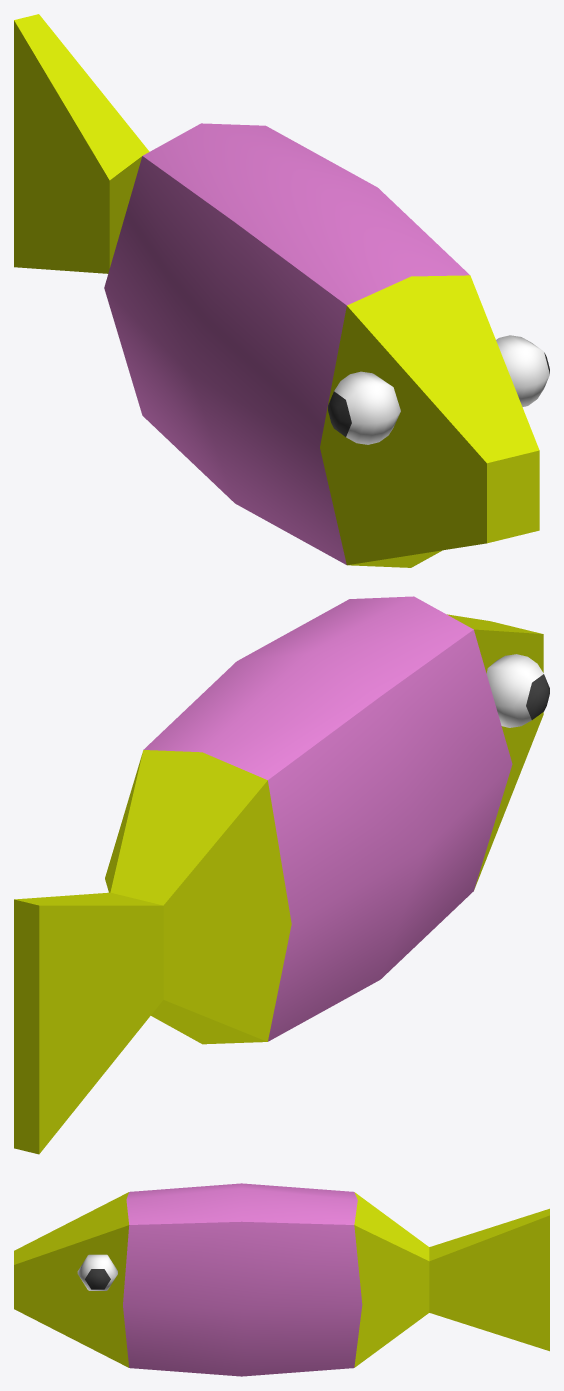
File: fih.fbx
The picture shows the model from 3 angles, top to bottom: view 1: azimuth 30°, elevation 25°; view 2: azimuth 150°, elevation 25°; view 3: azimuth 270°, elevation 25°; orthographic projection. The views are drawn at different scales.
Parts seen in each view (by area): view 1: Cube.001, Cube, Sphere.003, Sphere, Sphere.002; view 2: Cube.001, Cube, Sphere.003, Sphere.002; view 3: Cube.001, Cube, Sphere, Sphere.001.
Boxes of the visible parts, <box> form: Cube.001: <box>104,123,469,564</box>; Cube: <box>14,14,539,567</box>; Sphere.003: <box>334,371,400,444</box>; Sphere: <box>496,335,549,406</box>; Sphere.002: <box>328,391,351,436</box>; Cube.001: <box>143,596,512,1041</box>; Cube: <box>14,614,543,1154</box>; Sphere.003: <box>486,654,543,727</box>; Sphere.002: <box>526,674,549,719</box>; Cube.001: <box>123,1183,362,1376</box>; Cube: <box>14,1192,549,1367</box>; Sphere: <box>77,1254,117,1290</box>; Sphere.001: <box>85,1269,110,1289</box>.
Bounding box in the file's own units: 44.84 × 63.32 × 168.
